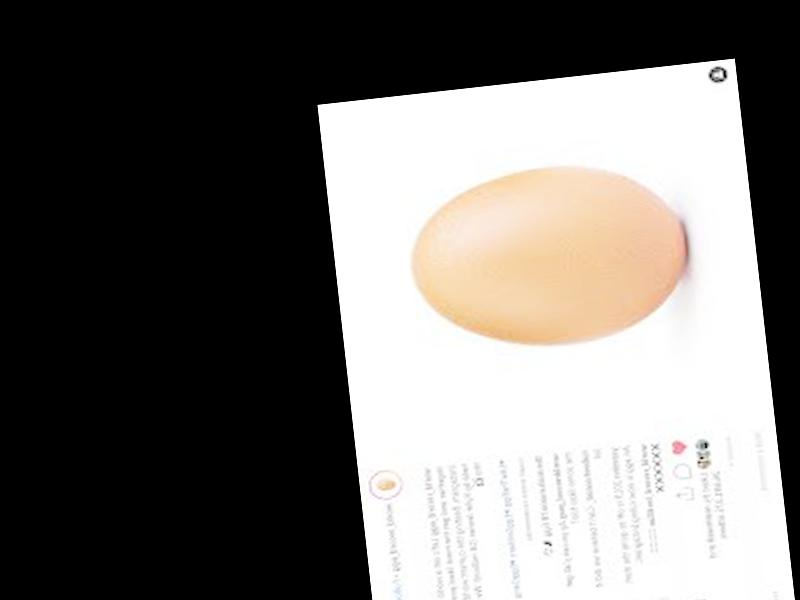Eggs: (403, 153, 692, 360)
